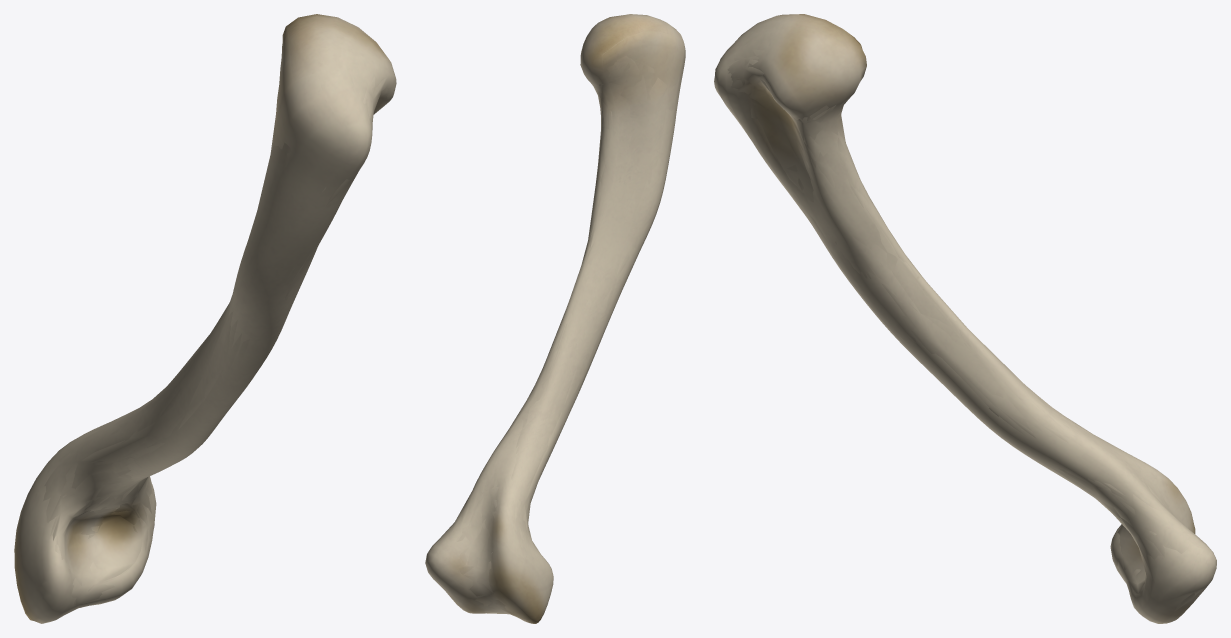
File: R Humerus.fbx
3 renders of one model, left to right at view 1: azimuth 30°, elevation 25°; view 2: azimuth 150°, elevation 25°; view 3: azimuth 270°, elevation 25°, orthographic. The views are drawn at different scales.
Visible parts, largest first — view 1: R Humerus high, R Humerus low, R Humerus; view 2: R Humerus high, R Humerus low, R Humerus; view 3: R Humerus high, R Humerus low, R Humerus.
Part boxes in pixels (left/top/right/bottom): R Humerus high: left=14, top=14, right=396, bottom=623; R Humerus low: left=44, top=76, right=390, bottom=612; R Humerus: left=43, top=64, right=389, bottom=613; R Humerus high: left=425, top=14, right=685, bottom=623; R Humerus low: left=436, top=55, right=680, bottom=615; R Humerus: left=440, top=61, right=654, bottom=618; R Humerus high: left=714, top=14, right=1216, bottom=623; R Humerus low: left=727, top=57, right=1196, bottom=611; R Humerus: left=726, top=49, right=1200, bottom=607.
Size of the model in its own units: 7.23 by 34.33 by 25.98.
1 material, 1 textured.
